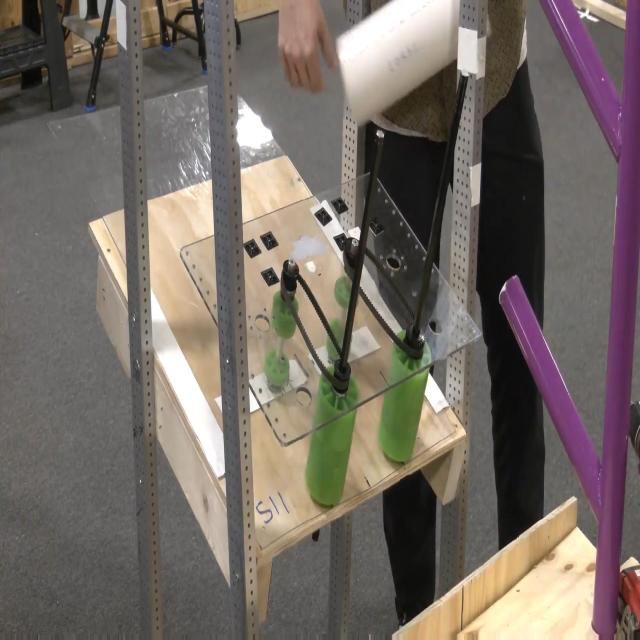Coral: (335, 0, 461, 127)
